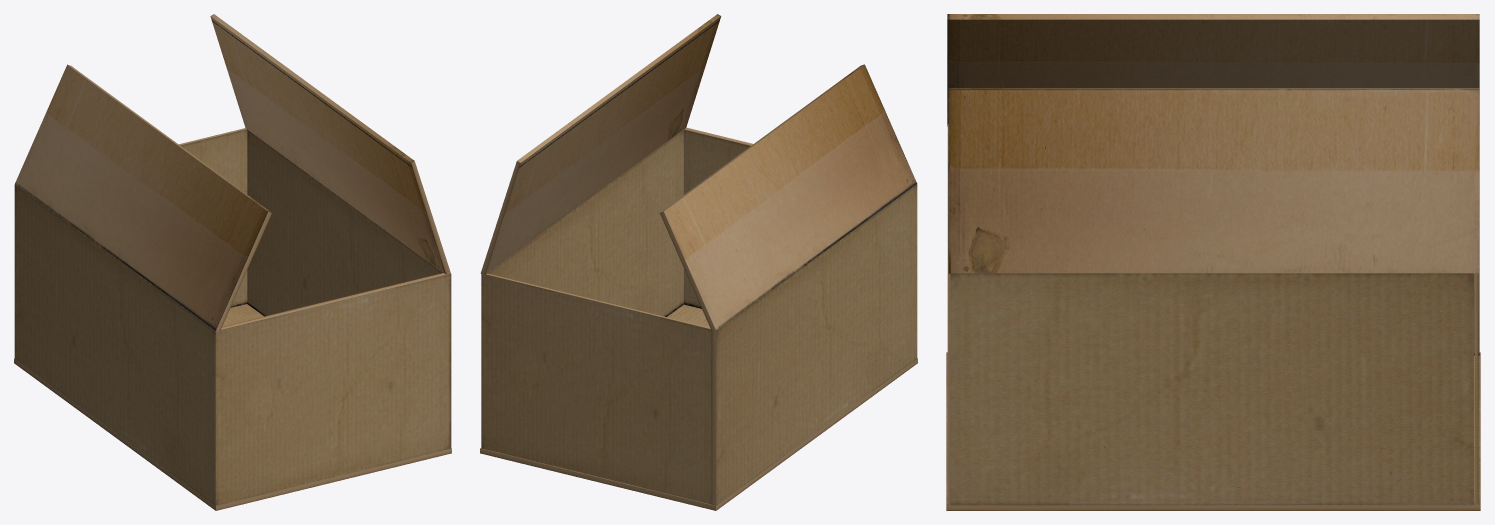
The model's file is Cardbox_open01.glb.
3 renders of one model, left to right at view 1: azimuth 30°, elevation 25°; view 2: azimuth 150°, elevation 25°; view 3: azimuth 270°, elevation 25°, orthographic. The views are drawn at different scales.
Parts seen in each view (by area): view 1: Cardbox_open01; view 2: Cardbox_open01; view 3: Cardbox_open01.
Part boxes in pixels (bbox=[...]): Cardbox_open01: bbox=[14, 14, 451, 510]; Cardbox_open01: bbox=[480, 14, 917, 510]; Cardbox_open01: bbox=[946, 14, 1480, 510].
Size of the model in its own units: 0.9493 by 1.16 by 1.41.
1 material, 1 textured.
